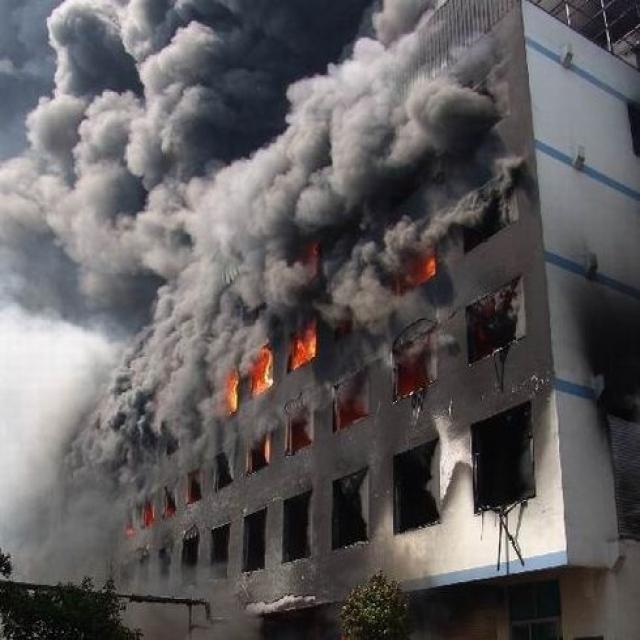Fire: (288, 318, 316, 372), (251, 350, 273, 400), (224, 377, 240, 415), (423, 255, 436, 278)
Smoke: (2, 1, 536, 638)
